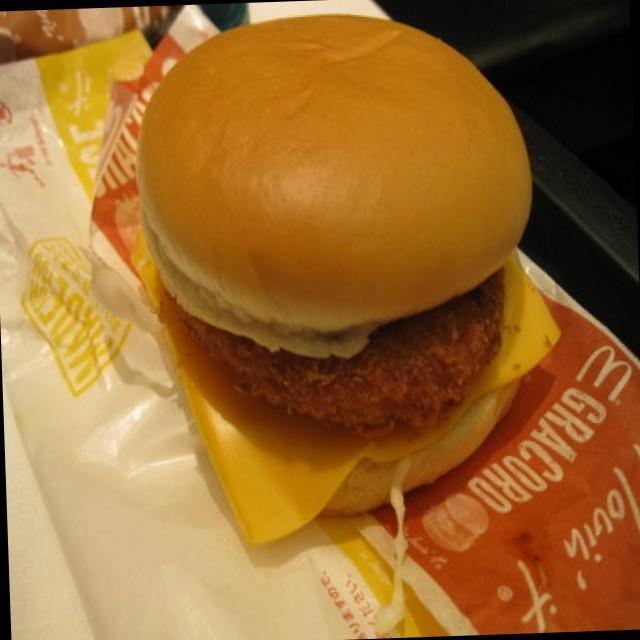Hamburger: (137, 2, 564, 534)
